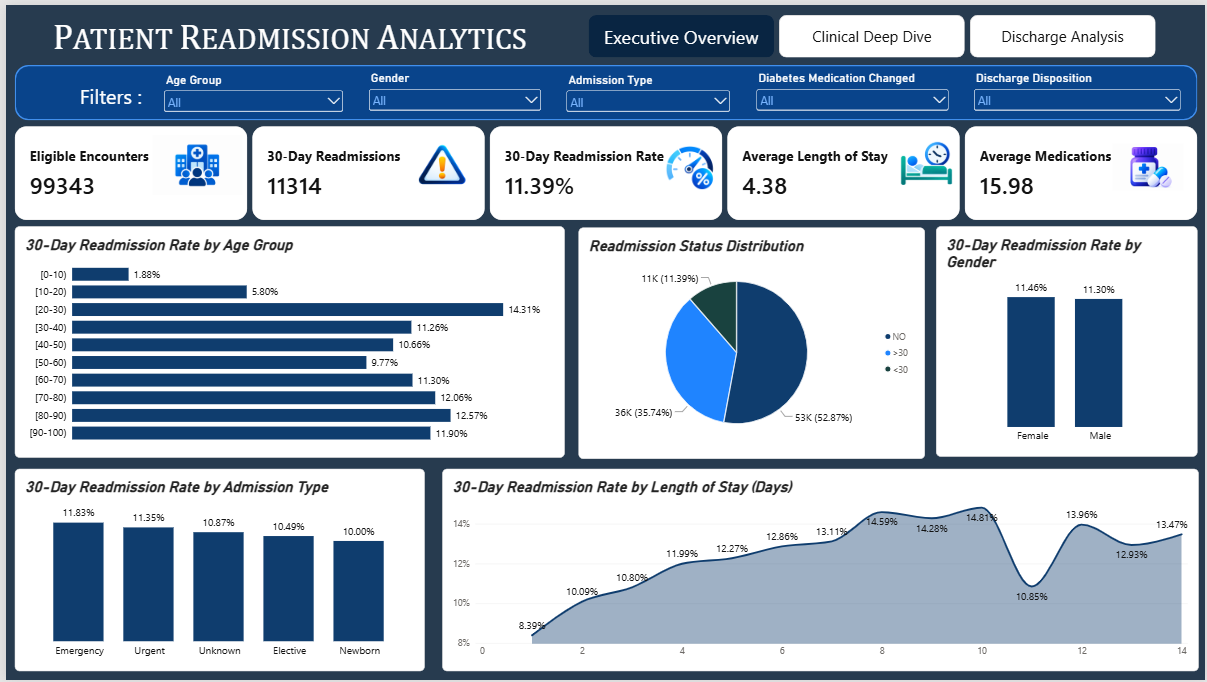

The dashboard page shown, as its layout file describes it:
{"tool":"powerbi","page":{"name":"Executive Overview","canvas":[1920,1080],"ordinal":0},"visuals":[{"type":"shape","box":[13.5,96.2,1892.3,88.5],"z":0},{"type":"textbox","box":[28.8,15.4,851.9,80.8],"z":1000},{"type":"pageNavigator","box":[932,16.3,908.4,68.8],"z":2000},{"type":"cardVisual","fields":{"Data":["Measures Table.Eligible Encounters","Measures Table.30-Day Readmissions","Measures Table.30-Day Readmission Rate","Measures Table.Average Length of Stay","Measures Table.Average Medications"]},"box":[13.5,194.2,1893,150],"z":3000},{"type":"barChart","fields":{"Category":["fact_readmission.Age Group"],"Y":["Measures Table.30-Day Readmission Rate"]},"box":[14,354,880,370],"z":4000},{"type":"pieChart","title":"Readmission Status Distribution","fields":{"Category":["fact_readmission.Readmission Status"],"Y":["Measures Table.Eligible Encounters"]},"box":[916,356,554,370],"z":5000},{"type":"columnChart","fields":{"Category":["fact_readmission.Gender"],"Y":["Measures Table.30-Day Readmission Rate"]},"box":[1488,354,418,369.2],"z":6000},{"type":"areaChart","fields":{"Y":["Measures Table.30-Day Readmission Rate"],"Category":["fact_readmission.Length of Stay (Days)"]},"box":[698,742,1210,324],"z":7000},{"type":"columnChart","fields":{"Y":["Measures Table.30-Day Readmission Rate"],"Category":["dim_admission_type.Admission Type"]},"box":[14,742,656,324],"z":8000},{"type":"slicer","fields":{"Values":["fact_readmission.Age Group"]},"box":[248,107.4,296.2,73.1],"z":9000},{"type":"slicer","fields":{"Values":["fact_readmission.Gender"]},"box":[575.8,106.4,284.6,75],"z":10000},{"type":"slicer","fields":{"Values":["dim_admission_type.Admission Type"]},"box":[892.2,107.4,271.2,73.1],"z":11000},{"type":"slicer","fields":{"Values":["dim_discharge_disposition.Discharge Disposition"]},"box":[1544,106.4,340.4,75],"z":12000},{"type":"slicer","fields":{"Values":["fact_readmission.Diabetes Medication Changed"]},"box":[1195,106.4,317.3,75],"z":13000},{"type":"textbox","box":[88.7,124.9,159.3,59.7],"z":14000},{"type":"image","box":[234,188,144,136],"z":15000},{"type":"image","box":[636,194,124,126],"z":16000},{"type":"image","box":[1026,198,136,126],"z":17000},{"type":"image","box":[1400,190,144,130],"z":18000},{"type":"image","box":[1770,198,114,122],"z":19000}]}

Visuals, with their boxes in screenshot pixels (x1, y1, x2, y2), scaled from the page's 1920x1080 canvas onto the 1207x682 screenshot:
shape: x1=8 y1=61 x2=1198 y2=117
textbox: x1=18 y1=10 x2=554 y2=61
pageNavigator: x1=586 y1=10 x2=1157 y2=54
cardVisual - Measures Table.Eligible Encounters x Measures Table.30-Day Readmissions: x1=8 y1=123 x2=1199 y2=217
barChart - fact_readmission.Age Group x Measures Table.30-Day Readmission Rate: x1=9 y1=224 x2=562 y2=457
"Readmission Status Distribution" pieChart: x1=576 y1=225 x2=924 y2=458
columnChart - fact_readmission.Gender x Measures Table.30-Day Readmission Rate: x1=935 y1=224 x2=1198 y2=457
areaChart - Measures Table.30-Day Readmission Rate x fact_readmission.Length of Stay (Days): x1=439 y1=469 x2=1199 y2=673
columnChart - Measures Table.30-Day Readmission Rate x dim_admission_type.Admission Type: x1=9 y1=469 x2=421 y2=673
slicer - fact_readmission.Age Group: x1=156 y1=68 x2=342 y2=114
slicer - fact_readmission.Gender: x1=362 y1=67 x2=541 y2=115
slicer - dim_admission_type.Admission Type: x1=561 y1=68 x2=731 y2=114
slicer - dim_discharge_disposition.Discharge Disposition: x1=971 y1=67 x2=1185 y2=115
slicer - fact_readmission.Diabetes Medication Changed: x1=751 y1=67 x2=951 y2=115
textbox: x1=56 y1=79 x2=156 y2=117
image: x1=147 y1=119 x2=238 y2=205
image: x1=400 y1=123 x2=478 y2=202
image: x1=645 y1=125 x2=730 y2=205
image: x1=880 y1=120 x2=971 y2=202
image: x1=1113 y1=125 x2=1184 y2=202
